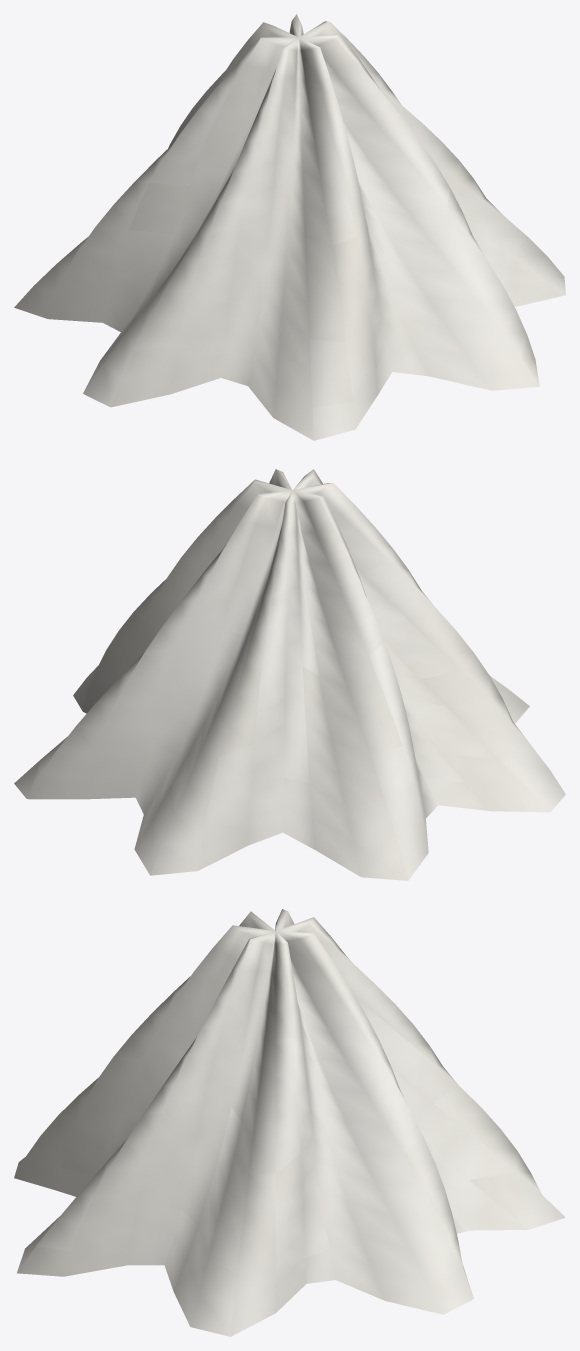
The model's file is PRP_Blanket_Draped.fbx.
3 views of the same model, one above another, from view 1: azimuth 30°, elevation 25°; view 2: azimuth 150°, elevation 25°; view 3: azimuth 270°, elevation 25° (orthographic).
Parts seen in each view (by area): view 1: PRP_Blanket_Draped; view 2: PRP_Blanket_Draped; view 3: PRP_Blanket_Draped.
Boxes of the visible parts, x1,y1,x2,y2 form: PRP_Blanket_Draped: (14,14,565,440); PRP_Blanket_Draped: (14,469,565,880); PRP_Blanket_Draped: (14,909,565,1336).
Bounding box in the file's own units: 35.21 × 20.2 × 34.55.
